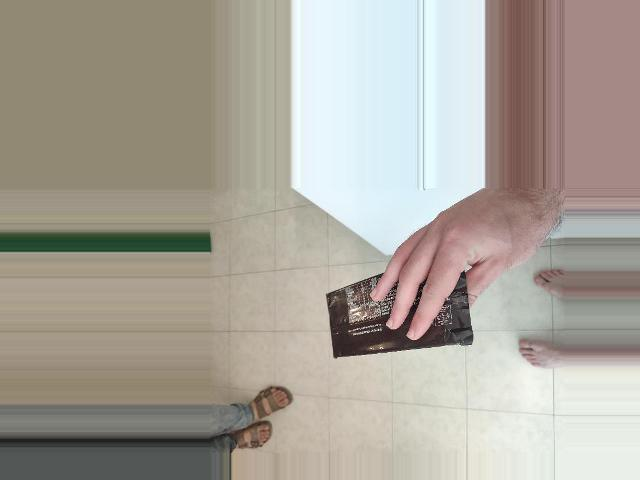chocolate: (296, 292, 412, 458)
